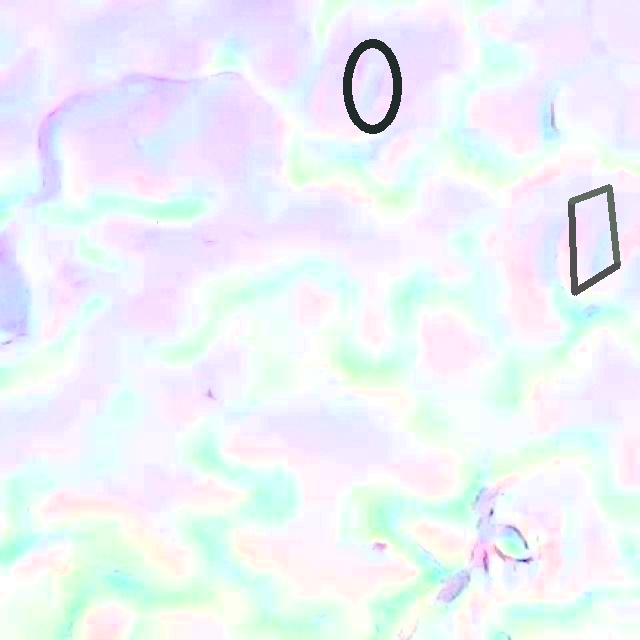close: (343, 37, 401, 134)
open: (568, 184, 620, 295)
